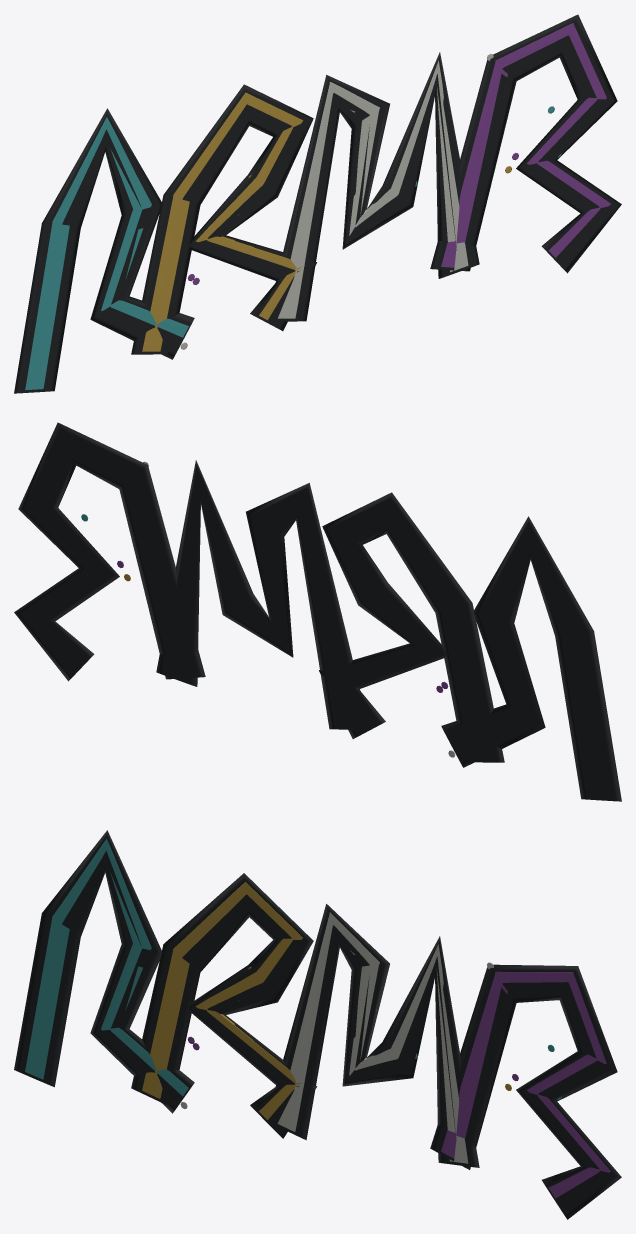
Rendered from DS_Environment_Graffiti_01_LOD1.glb.
3 renders of one model, top to bottom at view 1: azimuth 30°, elevation 25°; view 2: azimuth 150°, elevation 25°; view 3: azimuth 330°, elevation 25°, orthographic.
Parts seen in each view (by area): view 1: Graffiti_BlackBorder.002, Graffiti_BlackBorder.003, Graffiti_BlackBorder.001, Graffiti_BlackBorder, Graffiti_Color.002, Graffiti_Color, Graffiti_Color.001, Graffiti_Color.003; view 2: Graffiti_BlackBorder.002, Graffiti_BlackBorder.001, Graffiti_BlackBorder, Graffiti_BlackBorder.003; view 3: Graffiti_BlackBorder.002, Graffiti_BlackBorder.003, Graffiti_BlackBorder.001, Graffiti_BlackBorder, Graffiti_Color.002, Graffiti_Color, Graffiti_Color.001, Graffiti_Color.003.
Part boxes in pixels (x1,y1,x2,y2): Graffiti_BlackBorder.002: (275,52,479,321); Graffiti_BlackBorder.003: (430,14,621,273); Graffiti_BlackBorder.001: (131,84,316,354); Graffiti_BlackBorder: (14,108,194,393); Graffiti_Color.002: (278,60,468,318); Graffiti_Color: (25,117,188,390); Graffiti_Color.001: (142,92,304,351); Graffiti_Color.003: (441,23,610,267); Graffiti_BlackBorder.002: (156,460,360,729); Graffiti_BlackBorder.001: (319,492,504,762); Graffiti_BlackBorder: (441,516,621,801); Graffiti_BlackBorder.003: (14,422,205,681); Graffiti_BlackBorder.002: (275,904,479,1167); Graffiti_BlackBorder.003: (430,964,621,1219); Graffiti_BlackBorder.001: (131,873,317,1138); Graffiti_BlackBorder: (14,830,194,1113); Graffiti_Color.002: (277,912,468,1163); Graffiti_Color: (25,838,188,1096); Graffiti_Color.001: (142,882,304,1119); Graffiti_Color.003: (441,971,610,1198).
Size of the model in its own units: 3.38 by 1.47 by 0.00186.
